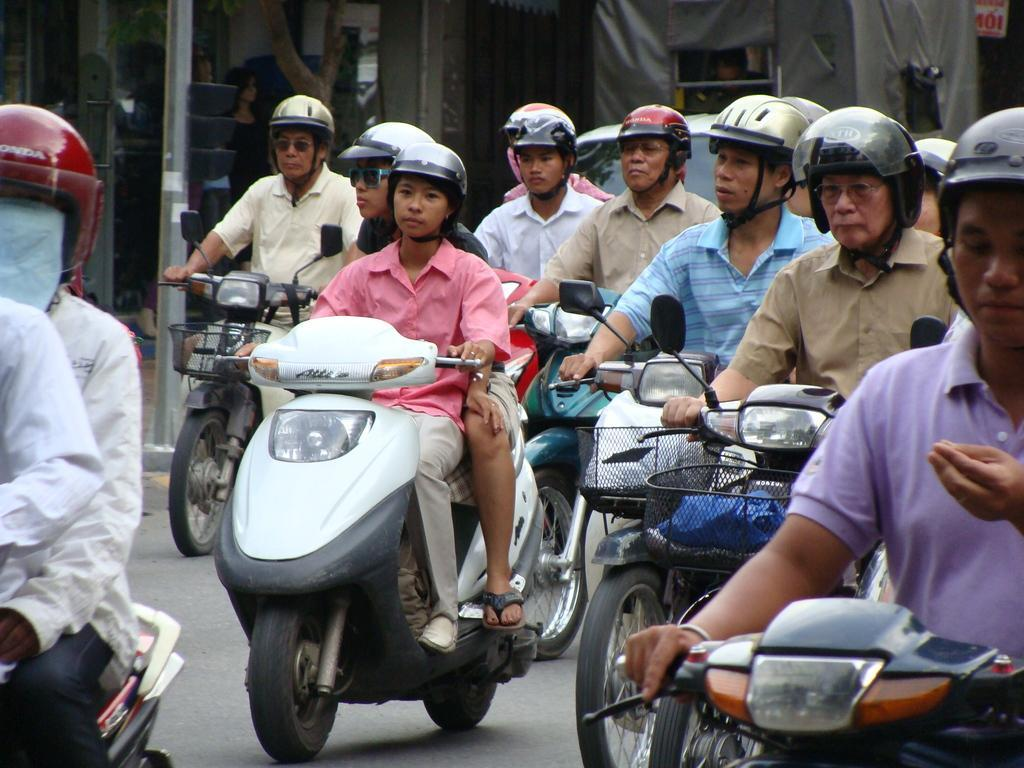helmet: (791, 104, 927, 275), (936, 105, 1024, 353), (707, 92, 813, 229), (336, 119, 439, 221), (385, 138, 470, 244), (616, 103, 694, 195), (269, 93, 336, 187), (511, 110, 579, 201)
